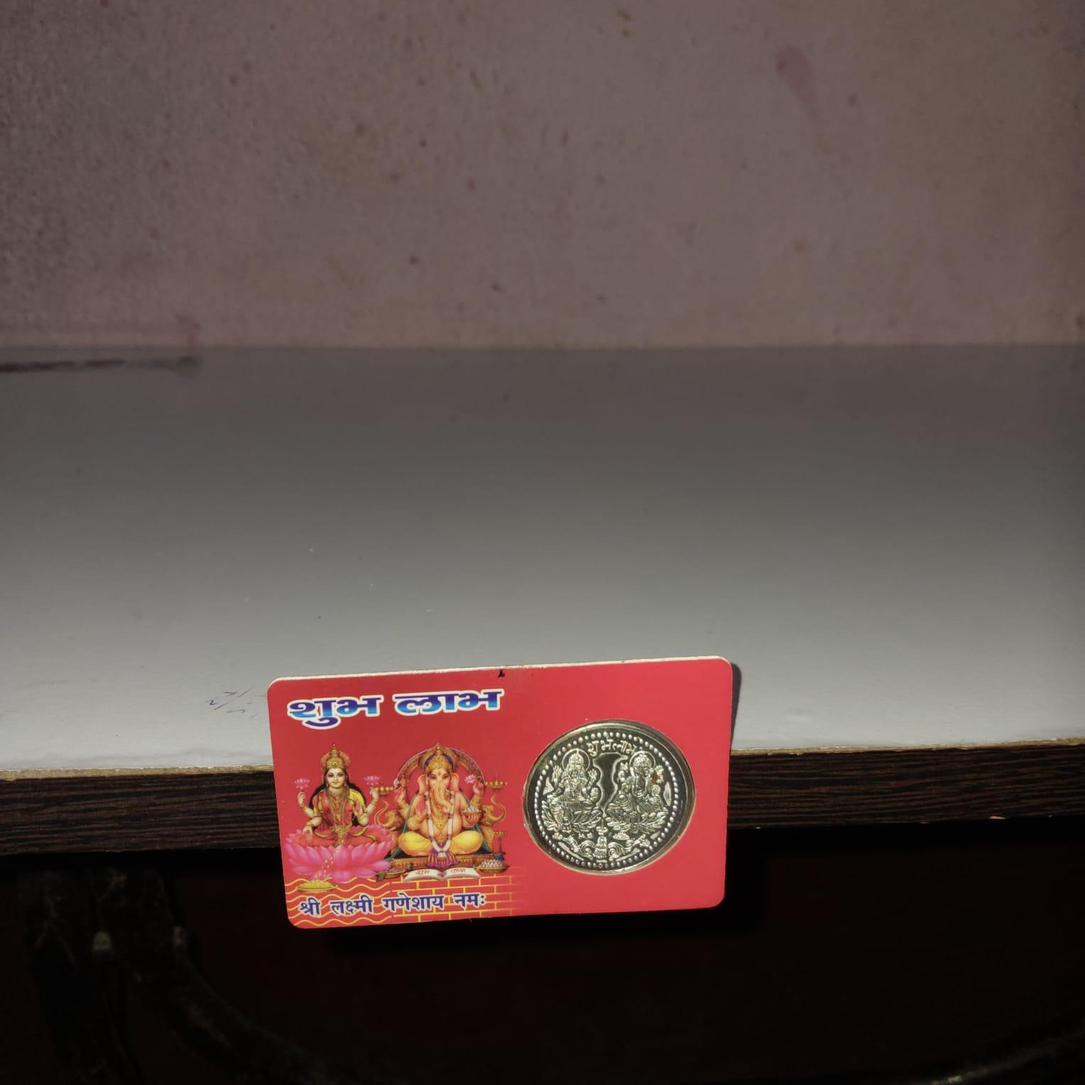blessing_card: (262, 662, 741, 933)
